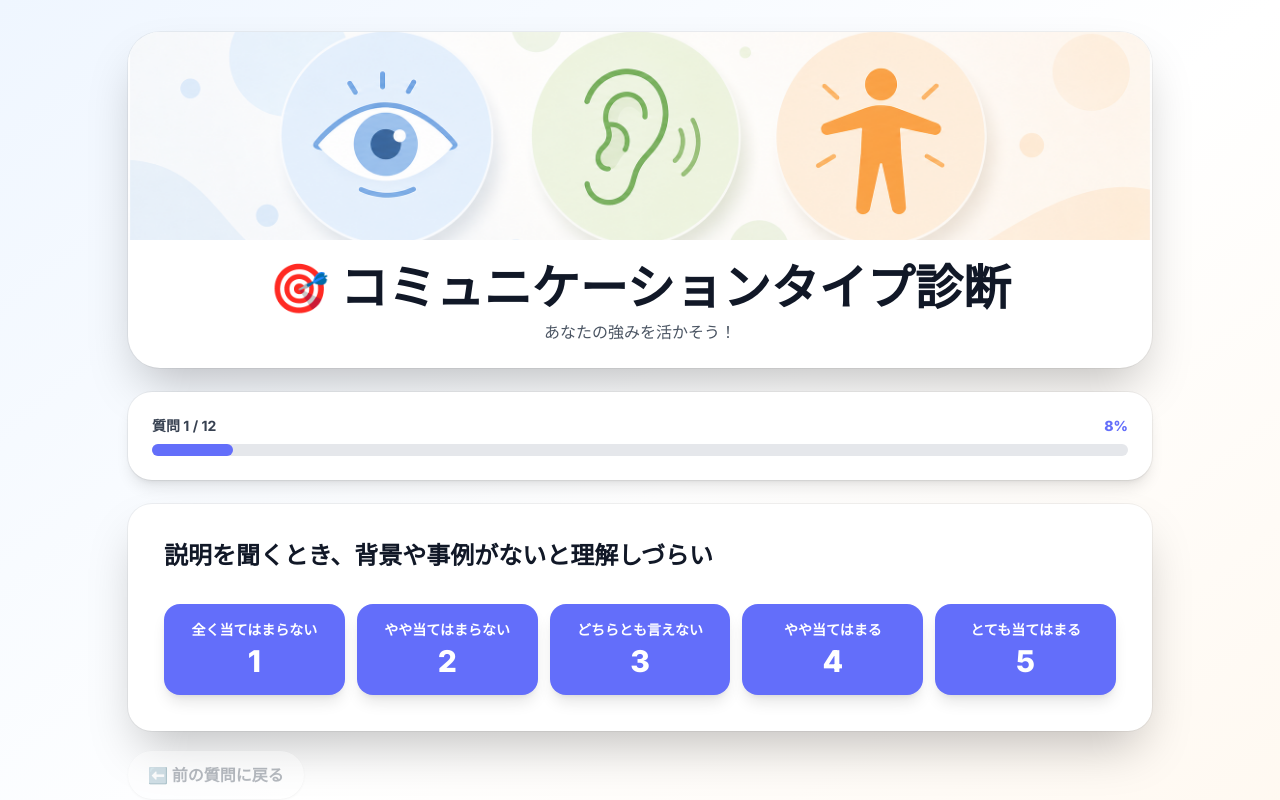
Test: VakAssessmentV2 › 回答すると次の質問へ進む
Click the button "やや当てはまる 4".
click(833, 650)  # box [742,604,923,695]
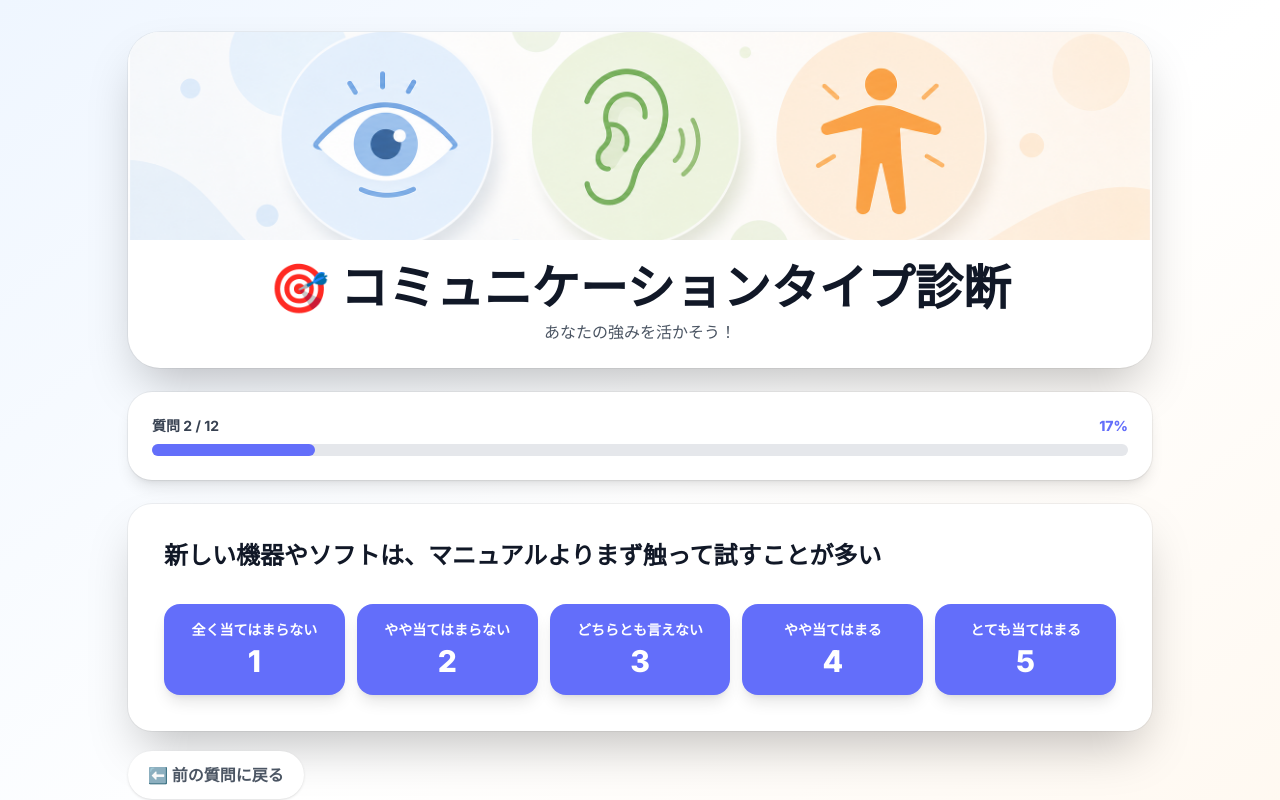
Expected: the text "質問 2 / 12" is shown, [152,416,219,436]
